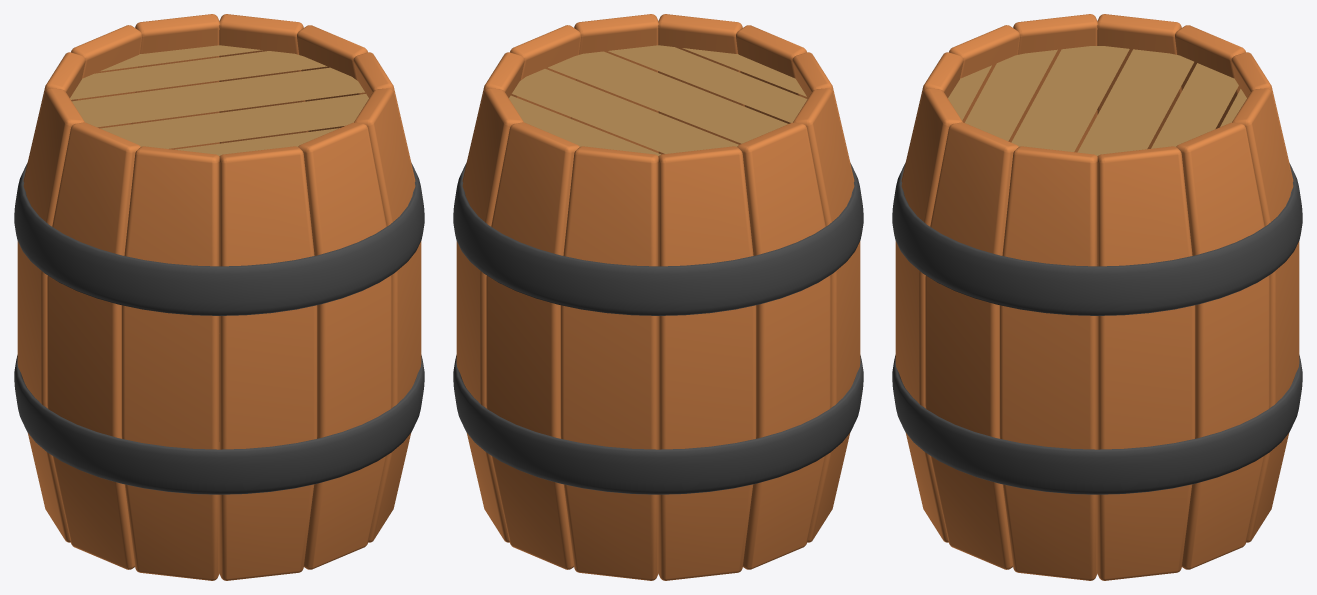
File: Barrel.fbx
The picture shows the model from 3 angles, left to right: view 1: azimuth 30°, elevation 25°; view 2: azimuth 150°, elevation 25°; view 3: azimuth 270°, elevation 25°; orthographic projection.
Visible parts, largest first — view 1: Barrel; view 2: Barrel; view 3: Barrel.
Part boxes in pixels (<box>): Barrel: <box>14,14,424,580</box>; Barrel: <box>453,14,863,580</box>; Barrel: <box>892,14,1302,580</box>.
Bounding box in the file's own units: 76.37 × 86.85 × 76.37.
